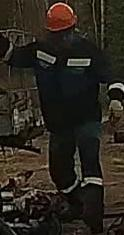gloves: (107, 93, 124, 129)
helmet: (46, 2, 77, 34)
vest: (27, 36, 105, 130)
